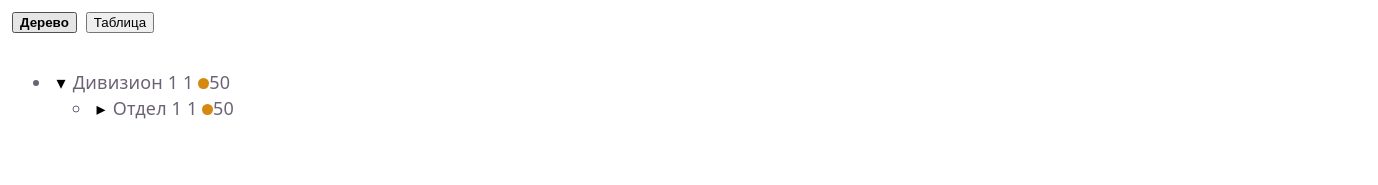
Test: OrgTreeScreen: компоновка по ширине › AC-002-1: если на узком экране выбрана «Таблица», после расширения окна снова видны оба вида
The image size is (1378, 185).
Click the button "Таблица".
click(120, 22)  # box [86,12,154,33]
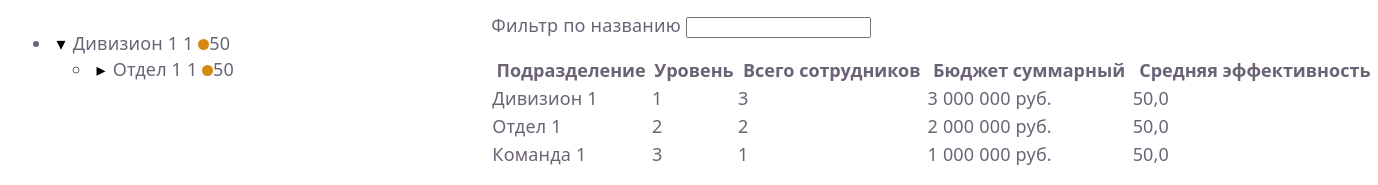
Check: the button "Дерево" is gone
Check: the element "Вид" is gone
Check: the element named "Таблица" is shown, box [491,12,1377,168]
